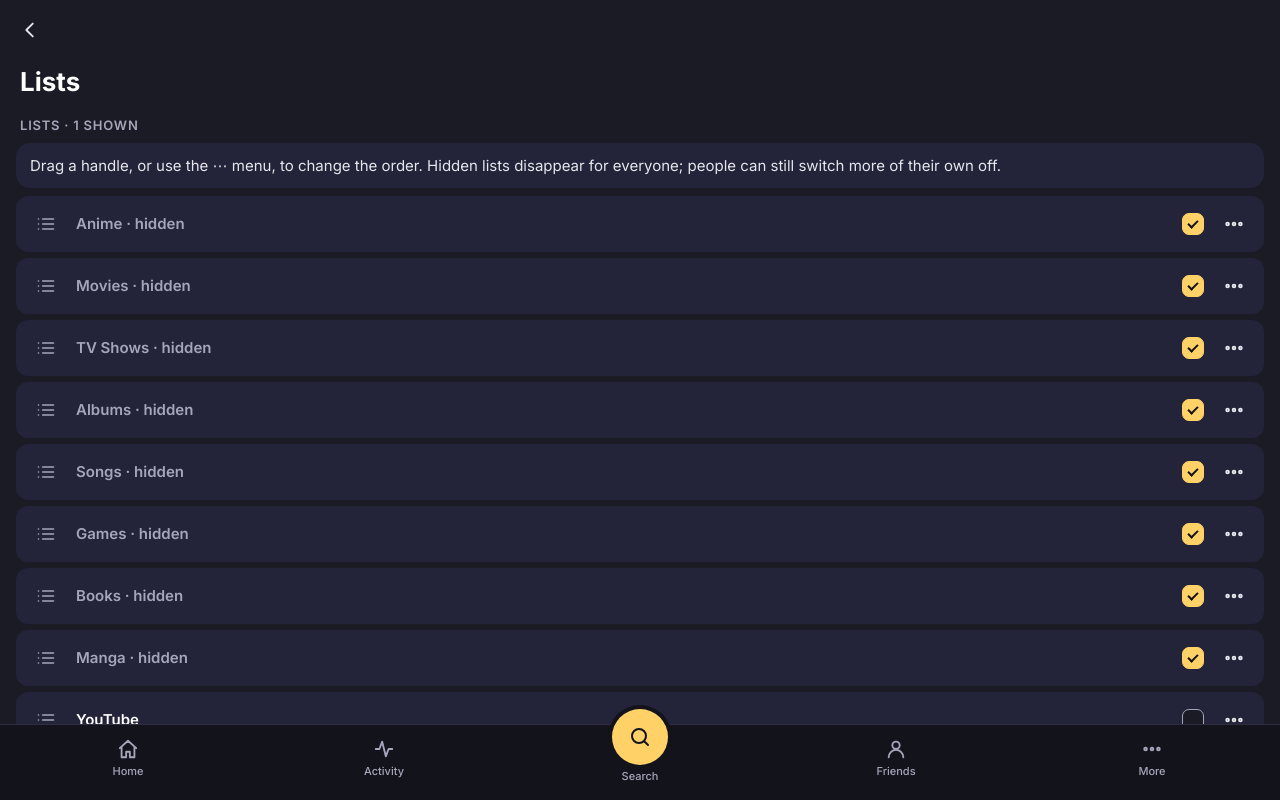
Test: Lists (AD11) › will not hide the last visible list
Step 1. Click the switch named "Hide YouTube for everyone" → (1193, 720), box [1182,709,1204,731]
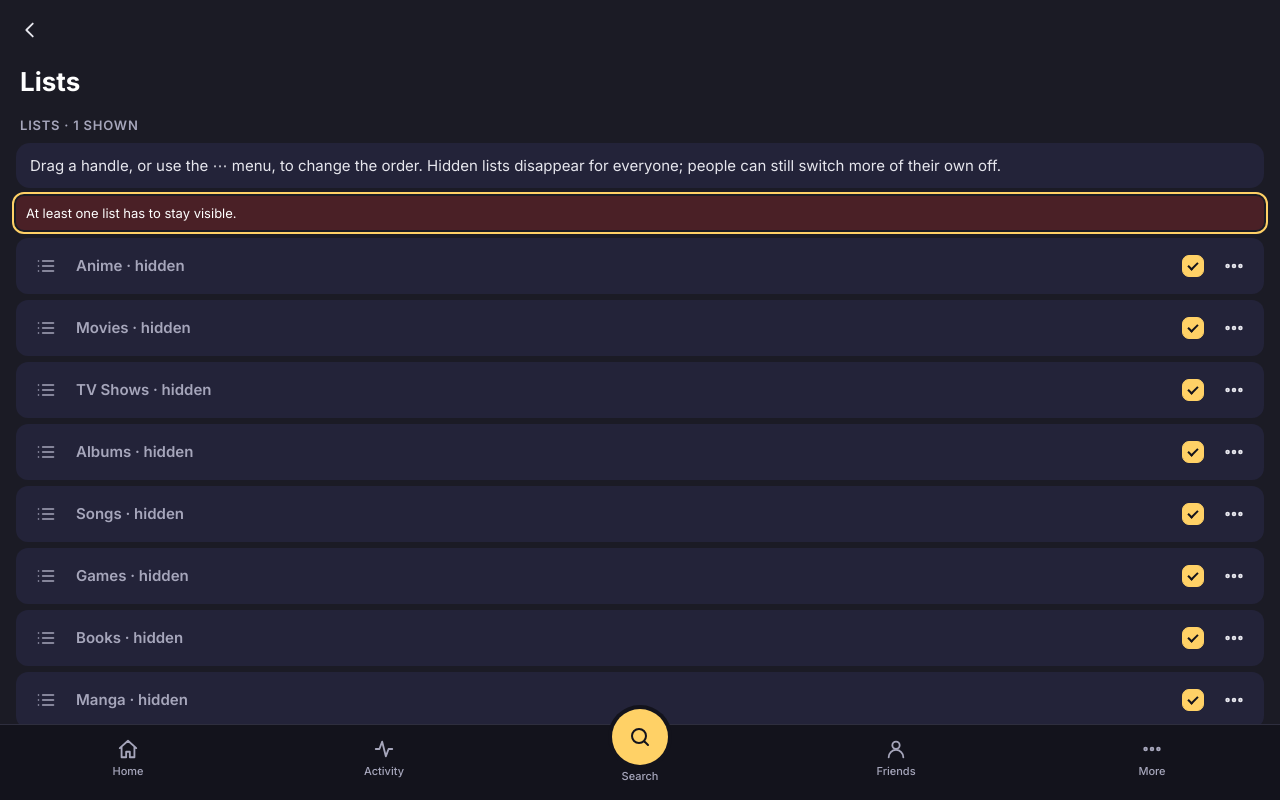
Result: the message shows "At least one list has to stay visible" at [26,205,237,221]
